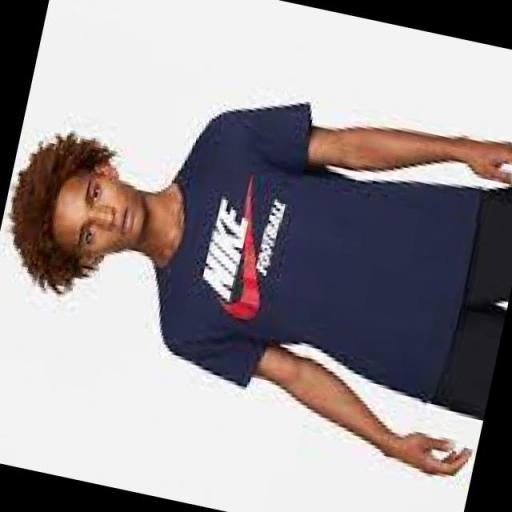Nike: (219, 178, 288, 325), (196, 197, 252, 304)
